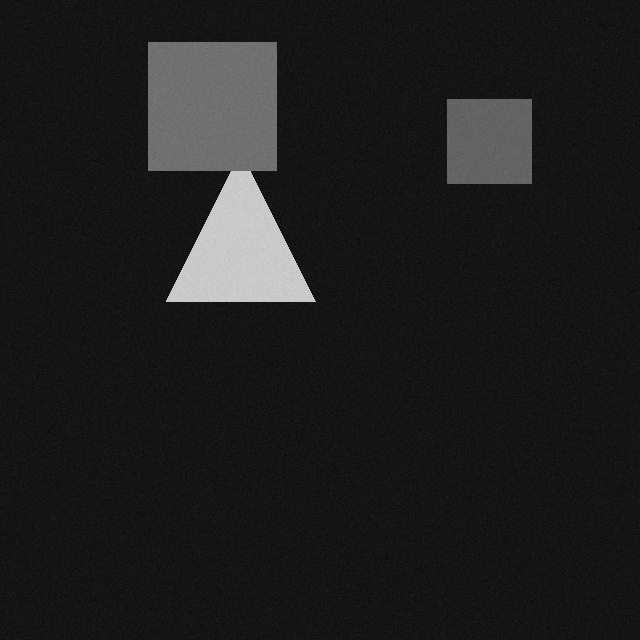square: (157, 44, 285, 172), (456, 101, 540, 185)
triangle: (175, 154, 324, 303)
